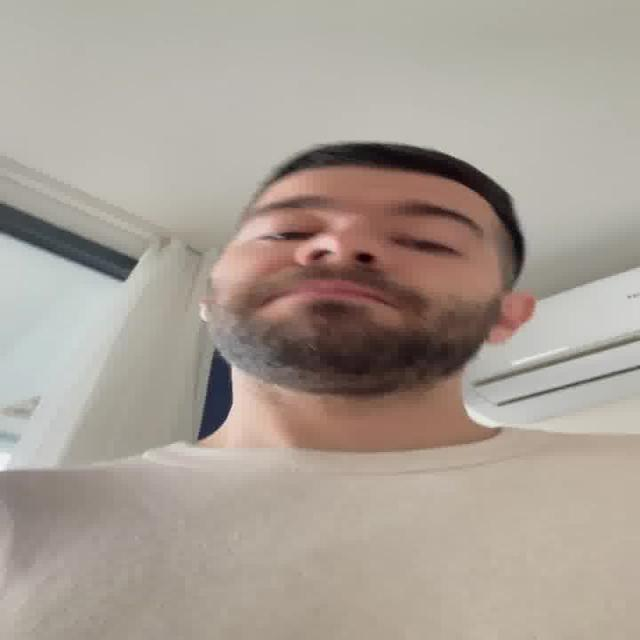earlobe: (477, 328, 511, 346), (195, 300, 216, 324)
eye: (389, 233, 468, 259), (256, 227, 320, 243)
nose: (298, 256, 381, 284)
wholeear: (483, 291, 538, 346)
